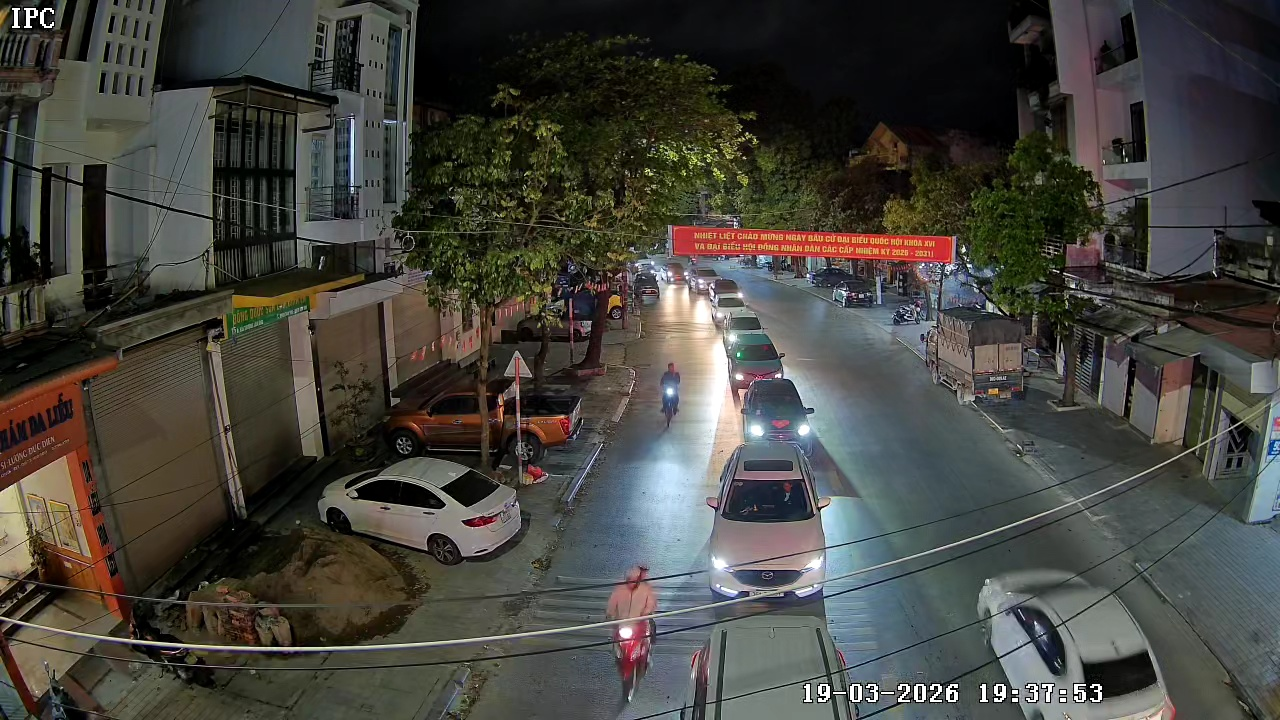car: (318, 455, 530, 562), (704, 439, 830, 598), (738, 372, 818, 450), (726, 332, 786, 403), (720, 305, 762, 351)
motorbike: (600, 562, 666, 707), (657, 359, 684, 432)
